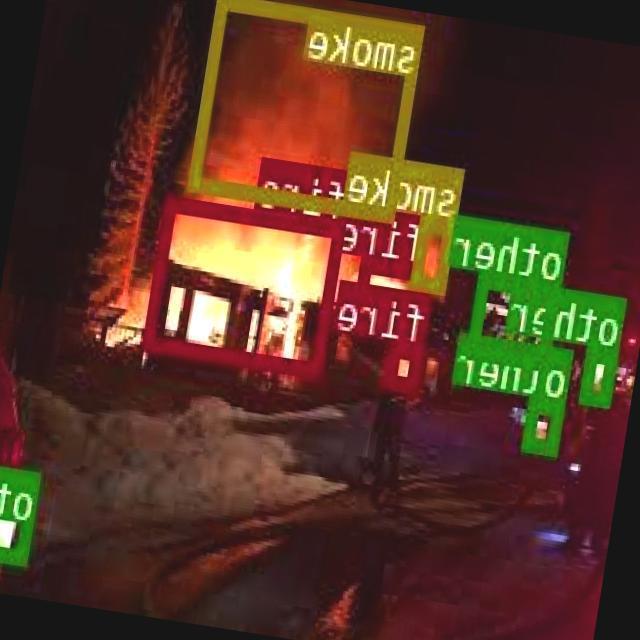fire: (146, 194, 348, 375), (358, 255, 426, 313), (387, 338, 427, 392)
smoke: (192, 0, 427, 219), (414, 217, 458, 290)
